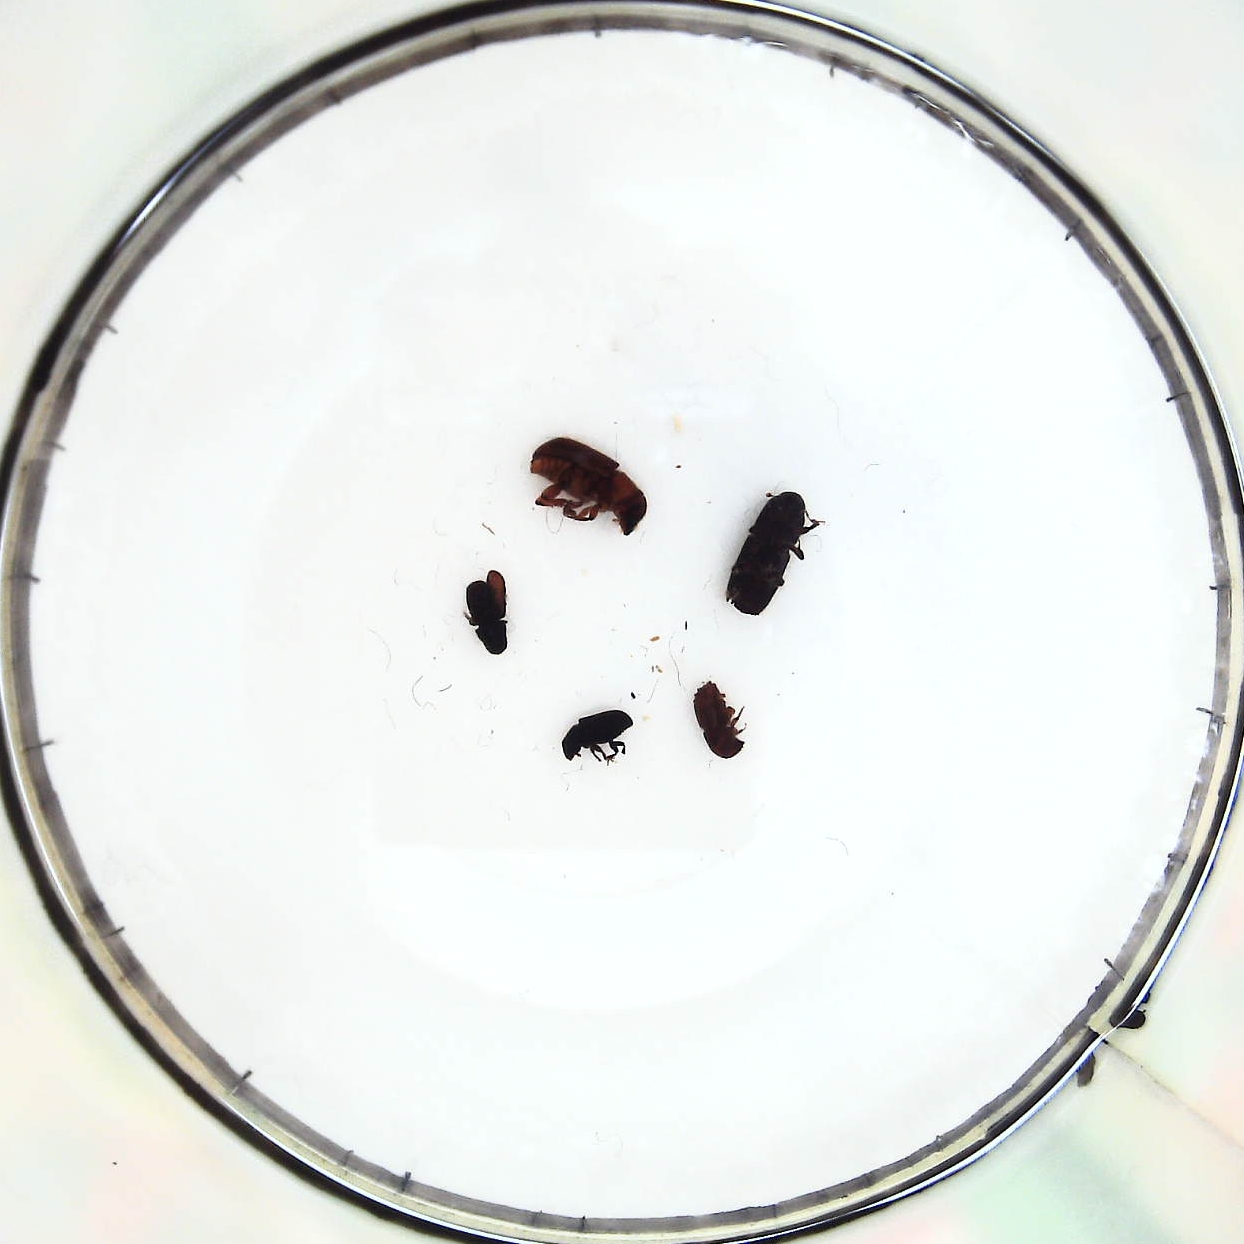Boerner: (731, 486, 810, 617)
Leconte: (527, 433, 649, 545)
Linnaeus: (691, 677, 748, 766)
armandi: (465, 568, 518, 654)
coleoptera: (564, 711, 636, 768)
